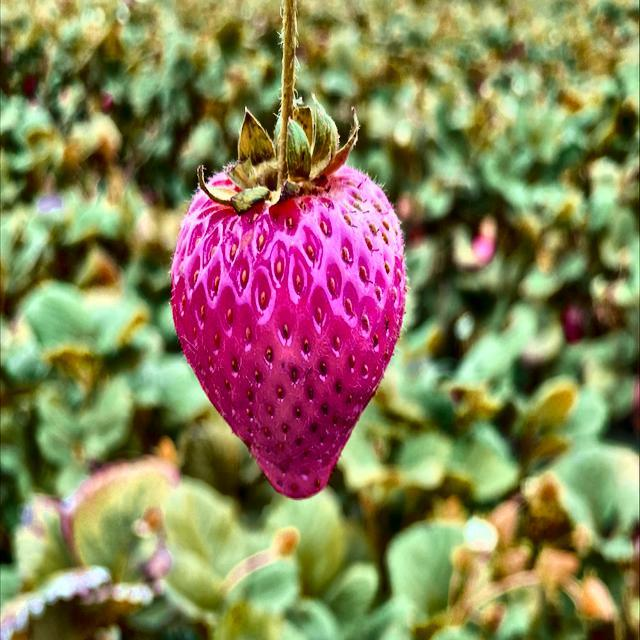strawberry: (171, 0, 406, 498)
